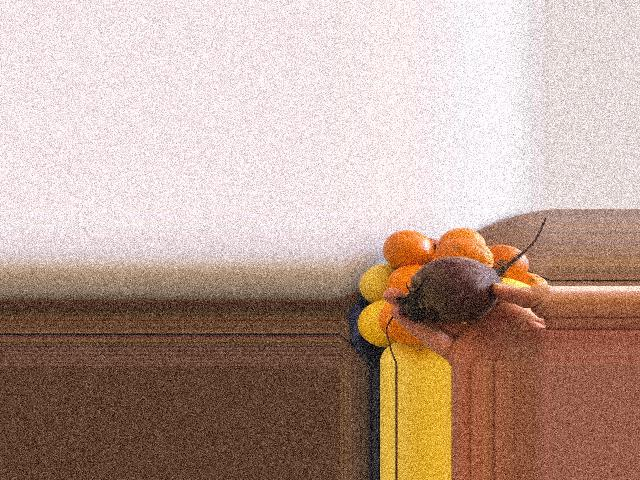beet: (398, 218, 545, 323)
